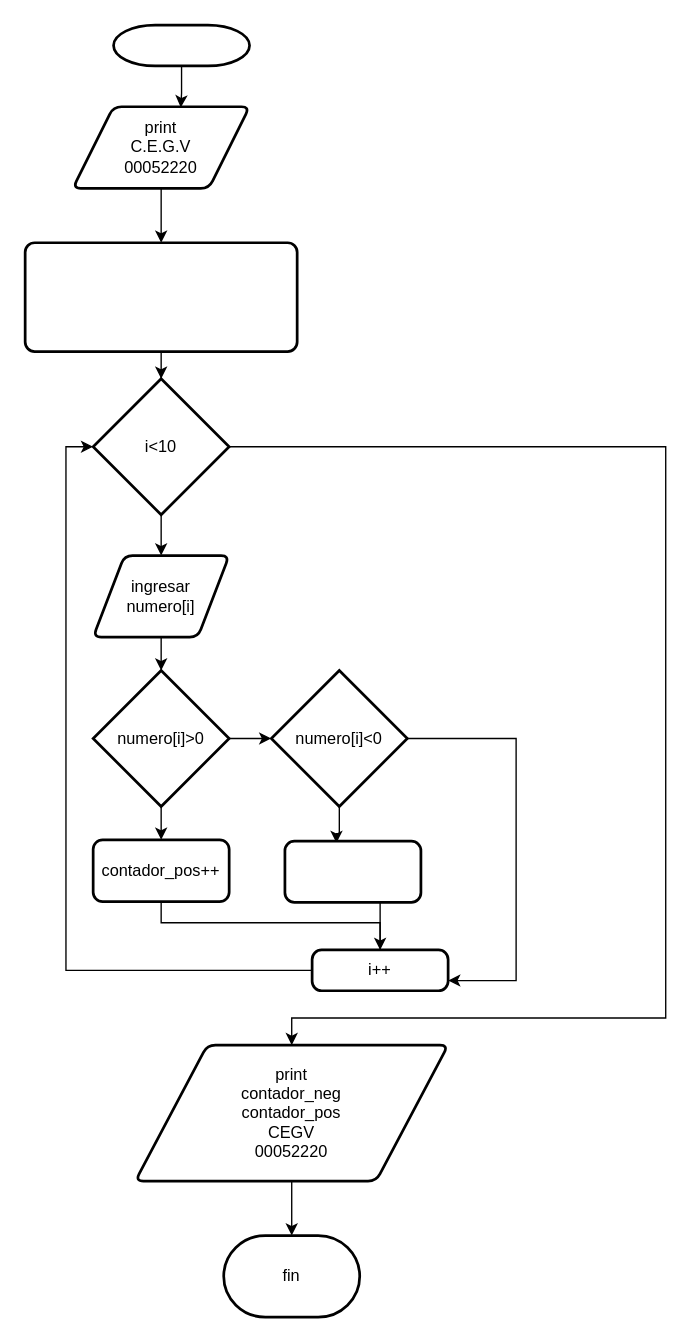
Some shapes in this 700 by 1341 pixel diagram are drawn without their labels. The shapes that lost their labels are listed below. From the top down, each one's centre as x and y in pixels, then its label:
pixel 181 45: inicio
pixel 160 296: declarar numeros[10] contador_pos=0 contador_neg=0 i=0
pixel 352 871: contador_neg++
